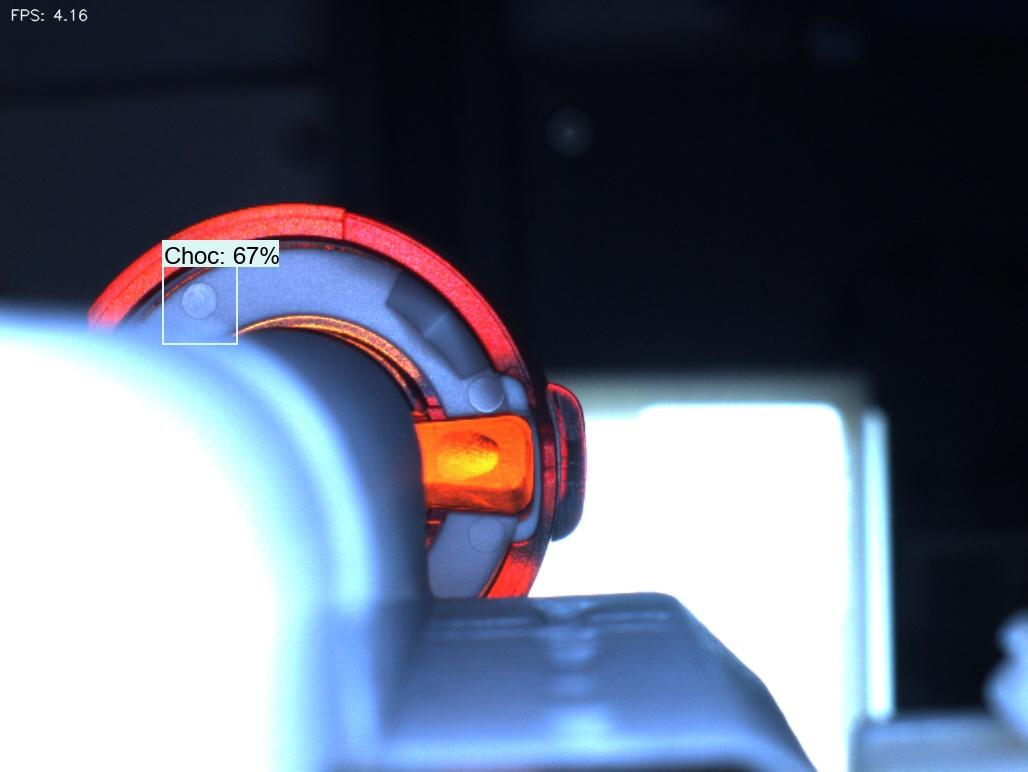Retassure: (426, 424, 516, 494)
